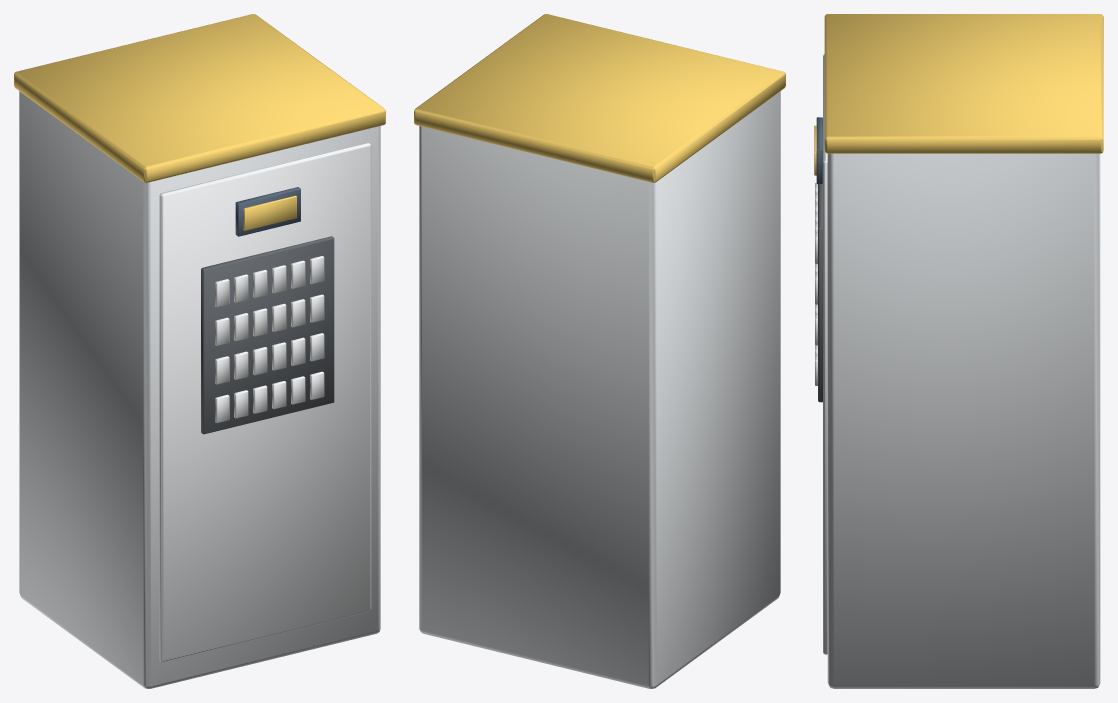
The model's file is pdu.glb.
3 views of the same model, side by side, from view 1: azimuth 30°, elevation 25°; view 2: azimuth 150°, elevation 25°; view 3: azimuth 270°, elevation 25° (orthographic). The views are drawn at different scales.
Parts seen in each view (by area): view 1: Body; view 2: Body; view 3: Body.
Boxes of the visible parts, bbox=[...] form: Body: bbox=[14, 14, 385, 688]; Body: bbox=[414, 14, 785, 688]; Body: bbox=[814, 14, 1103, 688].
Bounding box in the file's own units: 0.92 × 1.91 × 0.902.
